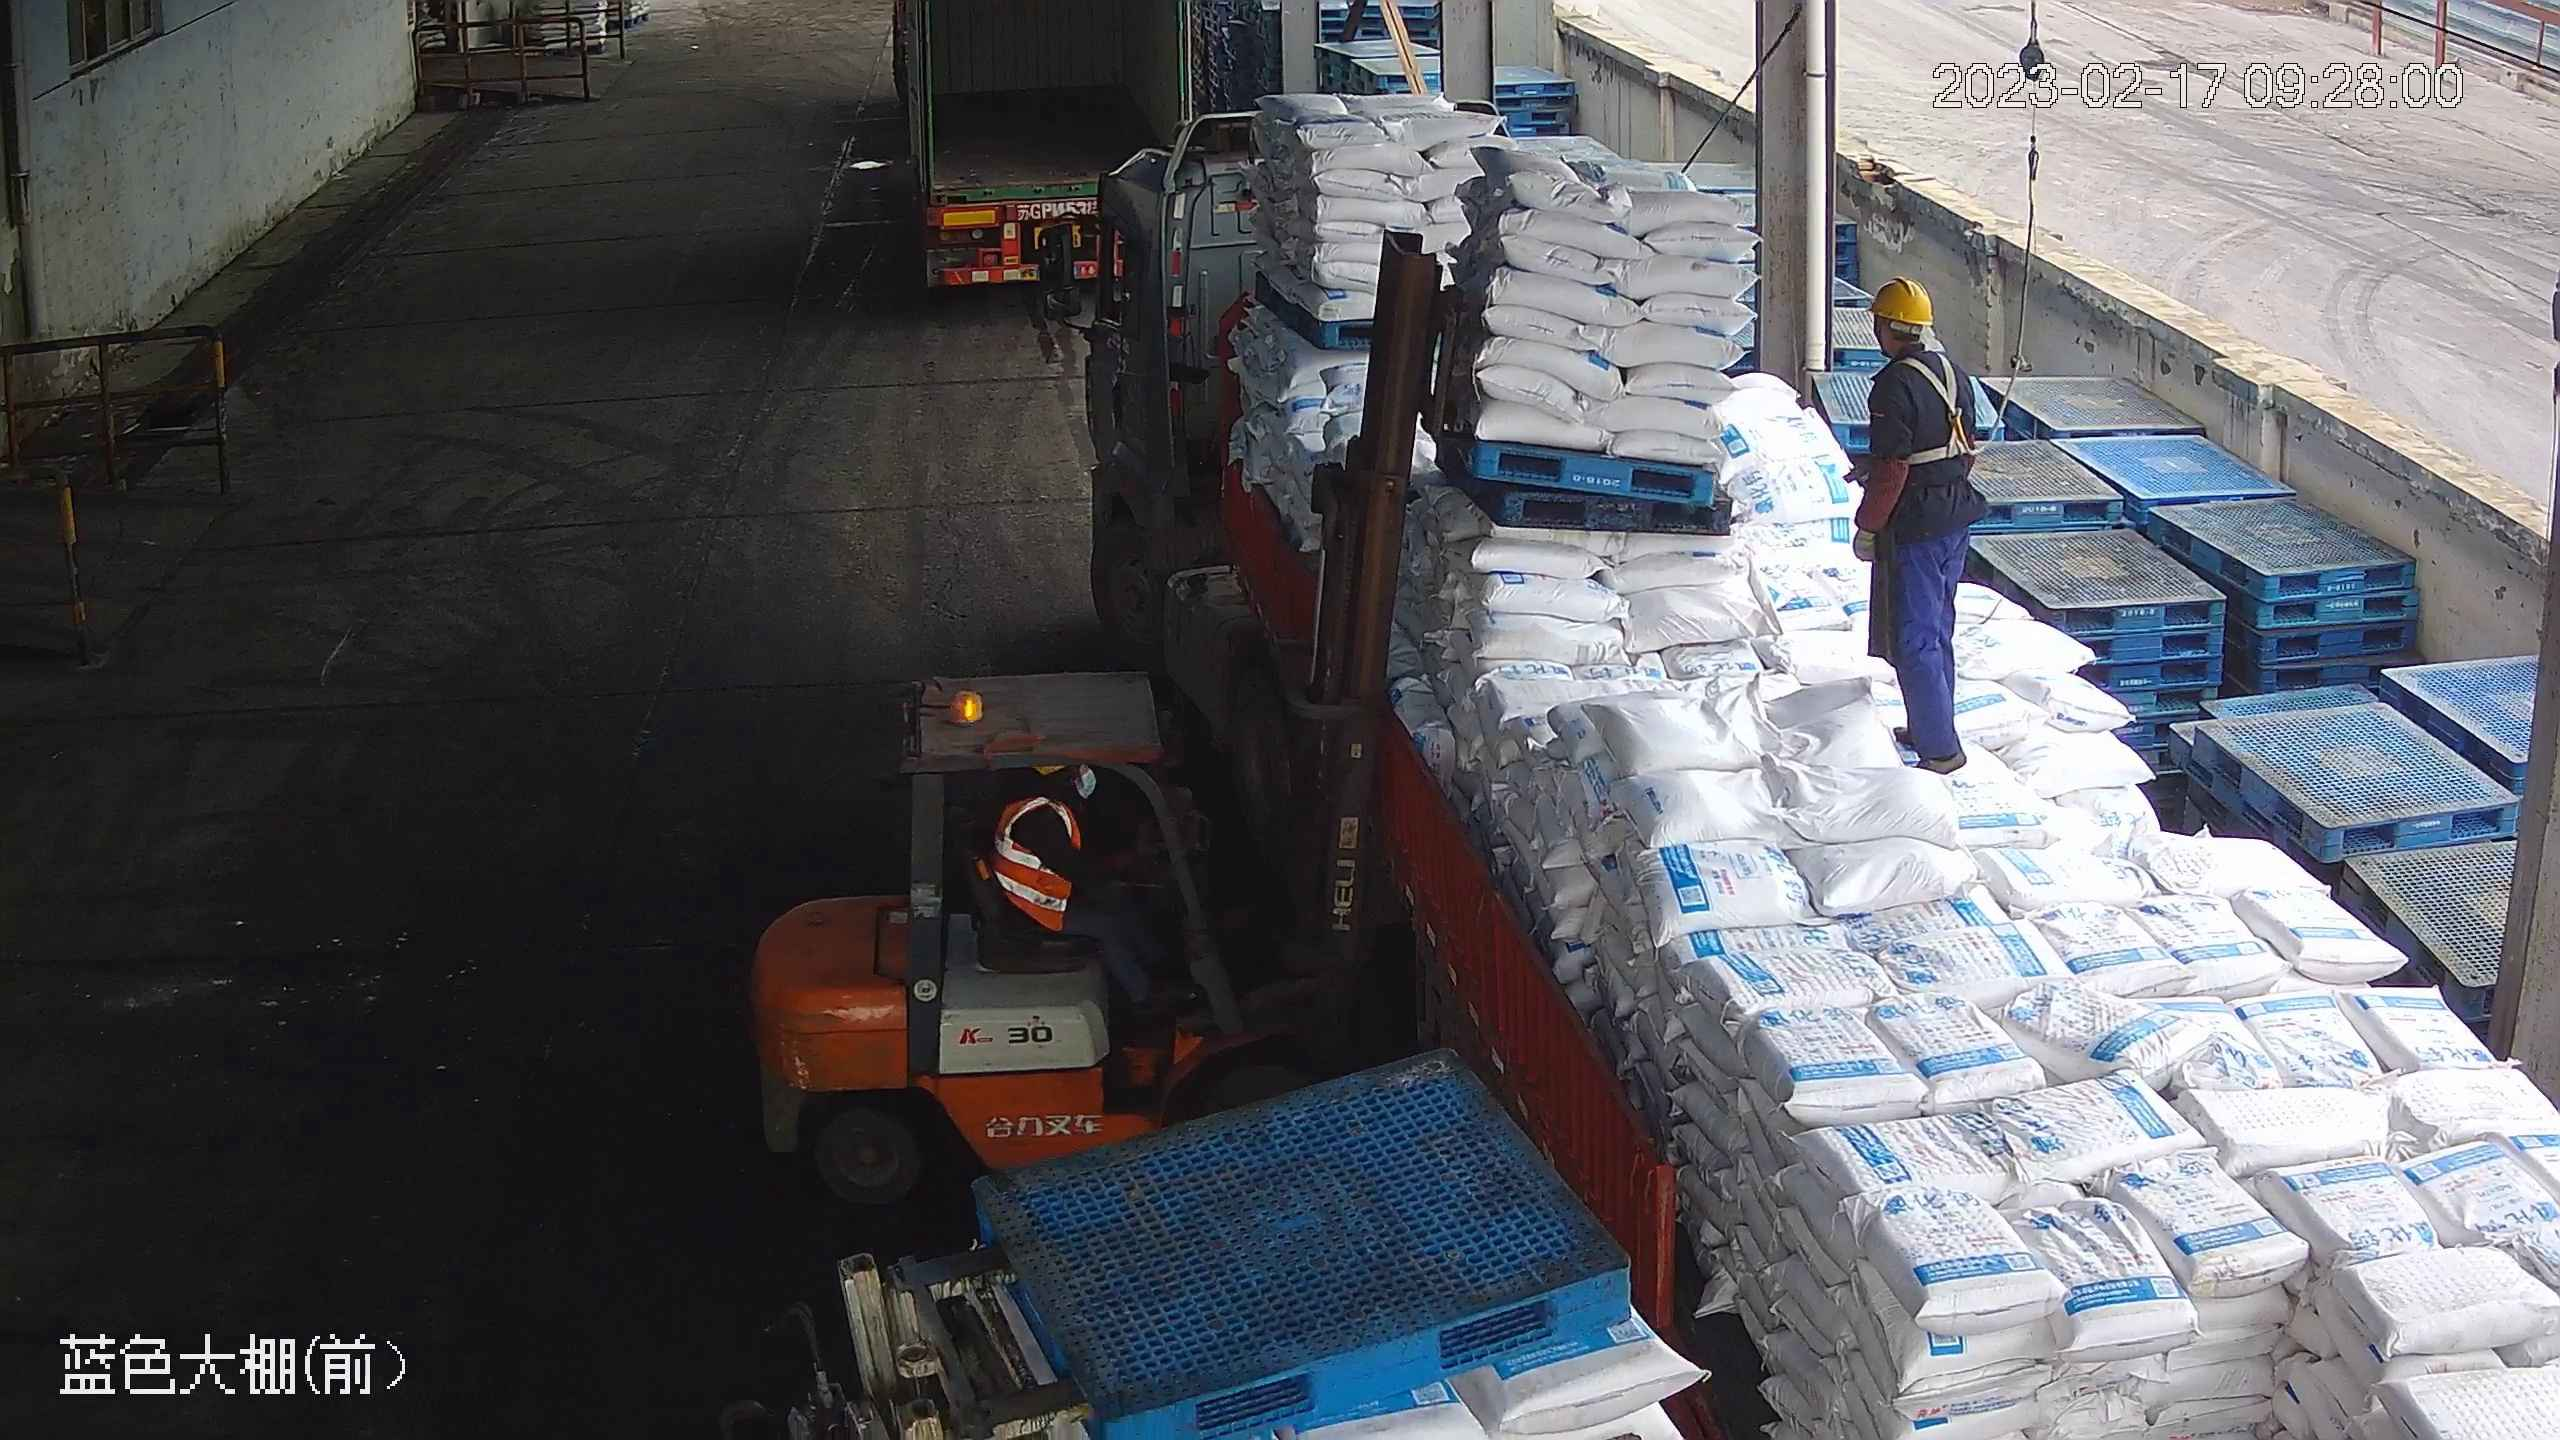belt: (1897, 351, 1990, 470)
head: (1854, 271, 1979, 417)
helmet: (1865, 272, 1935, 327)
people: (1847, 272, 1984, 778), (984, 761, 1186, 1021)
truck: (1035, 87, 2546, 1438), (884, 1, 1209, 302)
